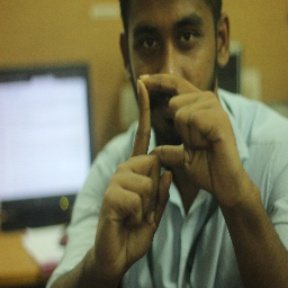D: (122, 70, 225, 182)
